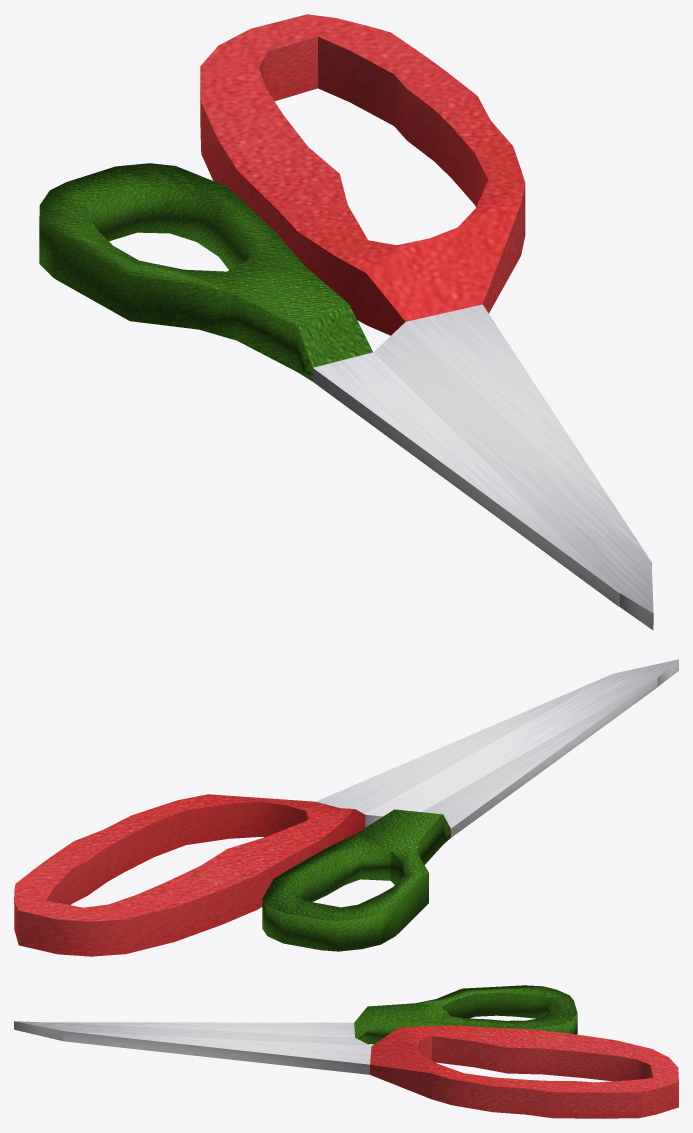
3 views of the same model, one above another, from view 1: azimuth 30°, elevation 25°; view 2: azimuth 150°, elevation 25°; view 3: azimuth 270°, elevation 25° (orthographic). The views are drawn at different scales.
Parts seen in each view (by area): view 1: Object_3, Object_2; view 2: Object_3, Object_2; view 3: Object_2, Object_3.
Part boxes in pixels (left/top/right/bottom): Object_3: left=39, top=163, right=653, bottom=629; Object_2: left=200, top=14, right=525, bottom=335; Object_3: left=262, top=659, right=678, bottom=951; Object_2: left=14, top=794, right=365, bottom=956; Object_2: left=370, top=1025, right=678, bottom=1118; Object_3: left=14, top=985, right=577, bottom=1074.
Bounding box in the file's own units: 13.94 × 1.53 × 35.44.
1 material, 1 textured.
